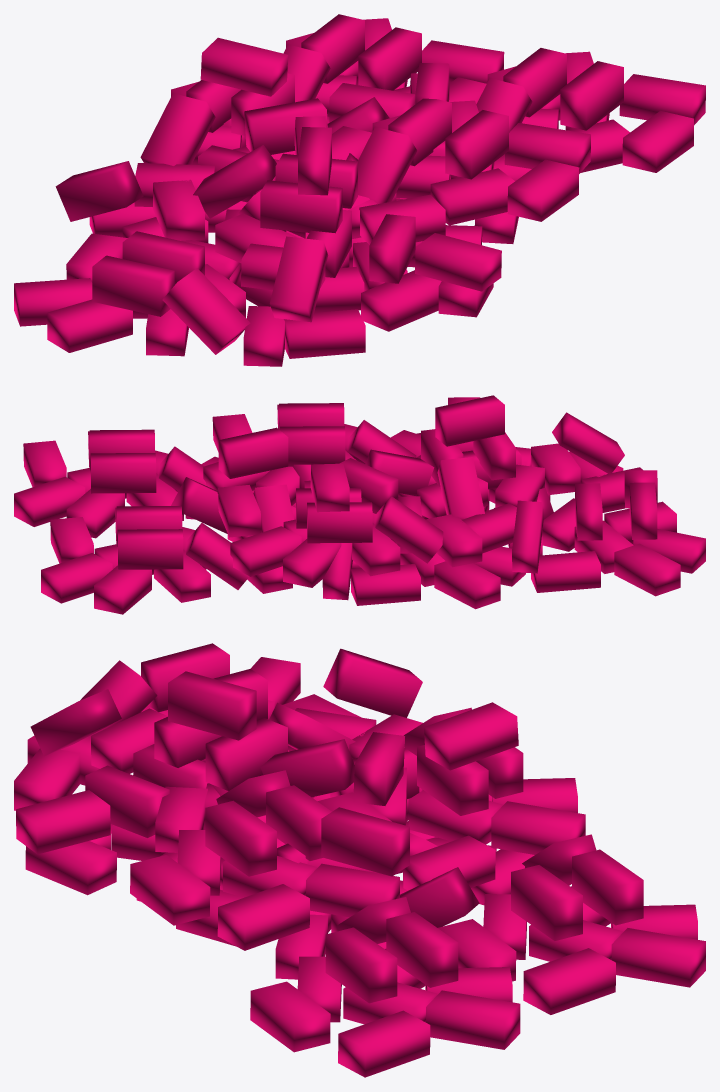
File: Brick_Pile_01.fbx
The picture shows the model from 3 angles, top to bottom: view 1: azimuth 30°, elevation 25°; view 2: azimuth 150°, elevation 25°; view 3: azimuth 270°, elevation 25°; orthographic projection. The views are drawn at different scales.
Parts seen in each view (by area): view 1: Brick_Pile_01; view 2: Brick_Pile_01; view 3: Brick_Pile_01.
Boxes of the visible parts, x1=… form: Brick_Pile_01: x1=14, y1=14, x2=705, y2=366; Brick_Pile_01: x1=14, y1=395, x2=705, y2=614; Brick_Pile_01: x1=14, y1=643, x2=705, y2=1077.
Size of the model in its own units: 213 by 43.68 by 159.
